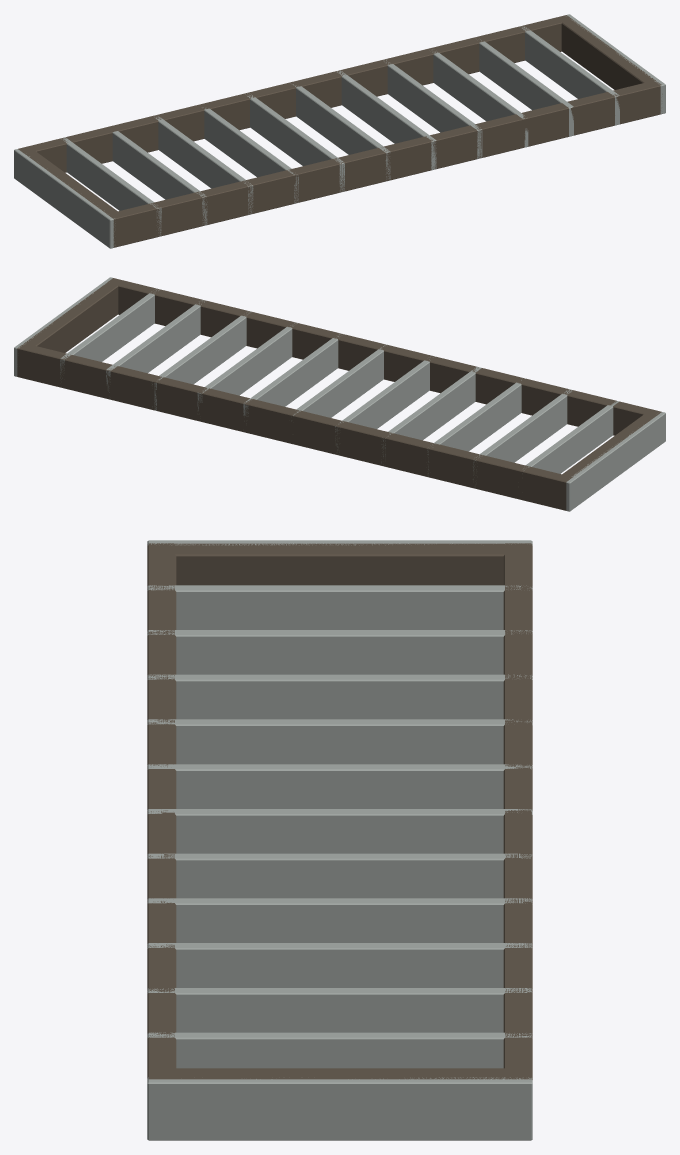
The model's file is GE_CATWALK_4M_LODs.fbx.
The picture shows the model from 3 angles, top to bottom: view 1: azimuth 30°, elevation 25°; view 2: azimuth 150°, elevation 25°; view 3: azimuth 270°, elevation 25°; orthographic projection. The views are drawn at different scales.
Visible parts, largest first — view 1: GE_CATWALK_4M_LOD0; view 2: GE_CATWALK_4M_LOD0; view 3: GE_CATWALK_4M_LOD0.
Boxes of the visible parts, x1,y1,x2,y2 form: GE_CATWALK_4M_LOD0: (14, 14, 665, 248); GE_CATWALK_4M_LOD0: (14, 277, 665, 511); GE_CATWALK_4M_LOD0: (147, 540, 532, 1140).
Size of what is drawn, in the model's own units: 4 by 0.2 by 1.2.
